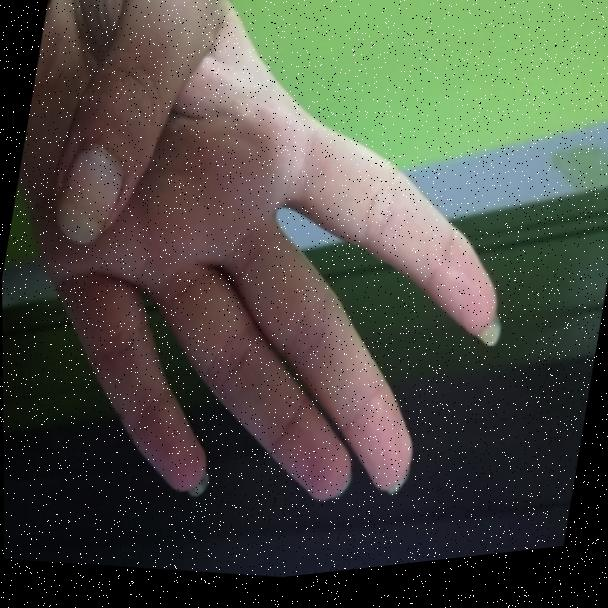four: (11, 0, 561, 567)
